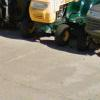Tractor: (24, 1, 100, 52)
